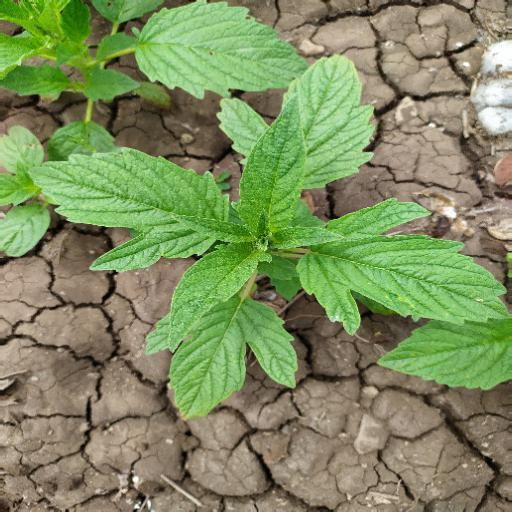crop: (47, 69, 512, 409), (1, 1, 319, 180)
